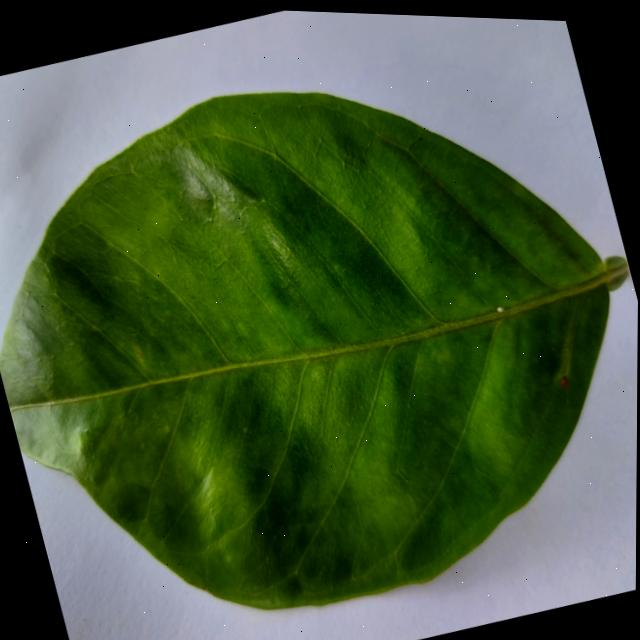greening: (0, 92, 628, 607)
